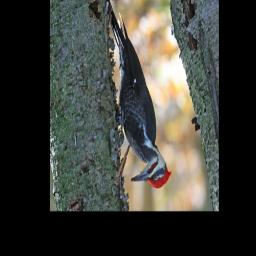Woodpecker: (107, 0, 172, 190)
